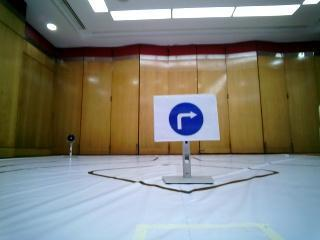right: (154, 97, 218, 138)
